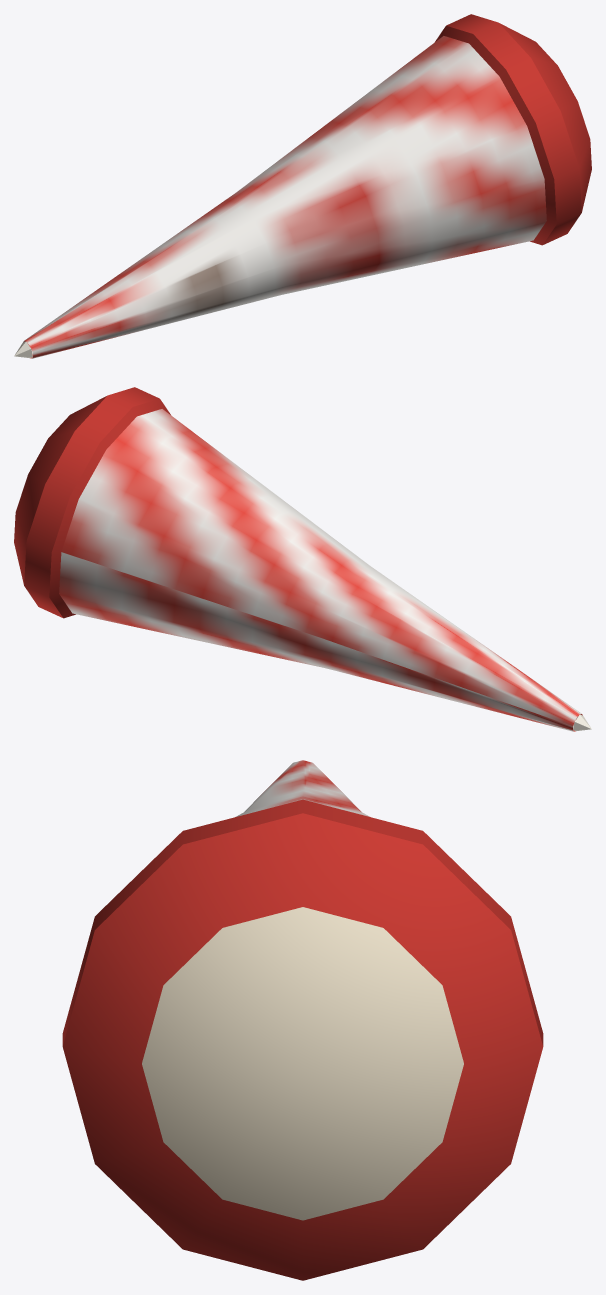
The model's file is SC_Prod_IceCone.gltf.
The picture shows the model from 3 angles, top to bottom: view 1: azimuth 30°, elevation 25°; view 2: azimuth 150°, elevation 25°; view 3: azimuth 270°, elevation 25°; orthographic projection. The views are drawn at different scales.
Visible parts, largest first — view 1: SC_Prod_IceCone; view 2: SC_Prod_IceCone; view 3: SC_Prod_IceCone.
Part boxes in pixels (x1,y1,x2,y2): SC_Prod_IceCone: (14,14,591,358); SC_Prod_IceCone: (14,387,591,731); SC_Prod_IceCone: (62,760,543,1280).
Size of the model in its own units: 0.193 by 0.0742 by 0.073.
Materials: 2 (2 with a texture image).
